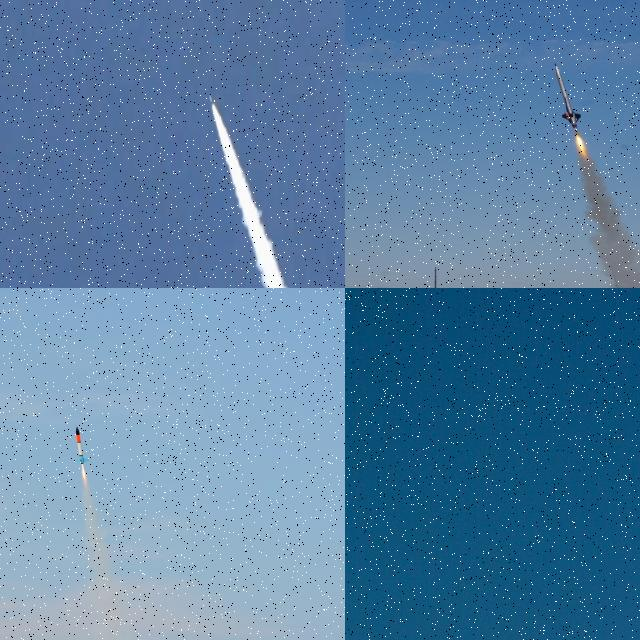Rocket: (554, 62, 582, 130), (75, 426, 90, 464), (210, 95, 213, 106)
